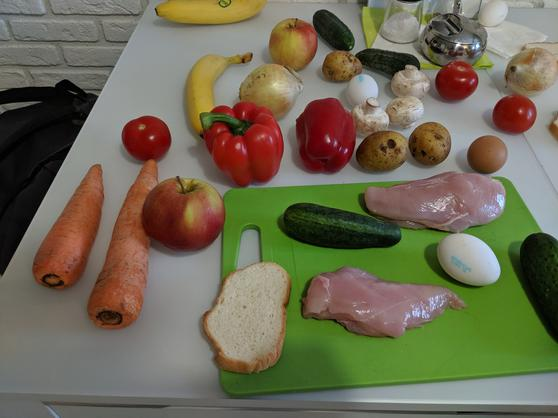banana: (182, 50, 256, 130), (155, 1, 265, 26)
carrot: (89, 158, 159, 325), (35, 166, 106, 288)
champignon: (389, 63, 432, 98), (389, 94, 424, 129)
chicken_fillet: (304, 265, 463, 340), (365, 175, 510, 233)
cucumber: (281, 201, 407, 250), (522, 233, 558, 344), (353, 48, 427, 76), (315, 5, 356, 51)
egg: (435, 233, 502, 287), (468, 138, 507, 172), (346, 72, 379, 108), (479, 1, 510, 27)
onion: (239, 62, 302, 115), (507, 45, 556, 93)
pepper: (203, 102, 285, 184), (297, 97, 356, 172)
potato: (357, 129, 410, 175), (411, 119, 452, 163)
tomato: (120, 115, 175, 161), (435, 62, 478, 102), (493, 95, 536, 133)
white_bread: (199, 261, 293, 375)
